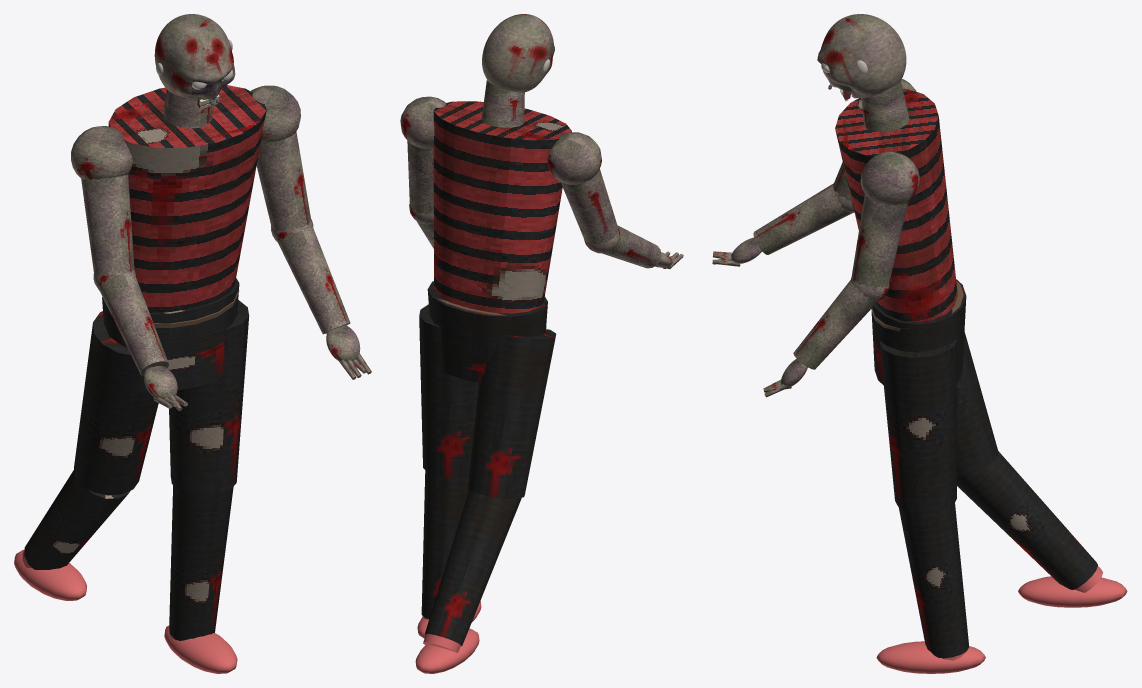
Rendered from Zombie_025.glb.
3 views of the same model, side by side, from view 1: azimuth 30°, elevation 25°; view 2: azimuth 150°, elevation 25°; view 3: azimuth 270°, elevation 25° (orthographic). The views are drawn at different scales.
Parts seen in each view (by area): view 1: Zombie_025, object 16, object 10, object 3, object 11, object 4; view 2: Zombie_025, object 16, object 3; view 3: Zombie_025, object 16, object 3, object 10.
Boxes of the visible parts, left/top/right/bottom form: Zombie_025: left=14, top=85, right=311, bottom=673; object 16: left=154, top=14, right=235, bottom=101; object 10: left=277, top=226, right=350, bottom=334; object 3: left=99, top=273, right=168, bottom=376; object 11: left=326, top=325, right=360, bottom=361; object 4: left=144, top=366, right=177, bottom=399; Zombie_025: left=400, top=80, right=618, bottom=673; object 16: left=482, top=14, right=554, bottom=92; object 3: left=602, top=225, right=661, bottom=268; Zombie_025: left=833, top=79, right=1127, bottom=673; object 16: left=817, top=14, right=906, bottom=98; object 3: left=753, top=183, right=852, bottom=254; object 10: left=793, top=280, right=878, bottom=369.
Bounding box in the file's own units: 0.7051 × 1.94 × 1.15.
Materials: 15 (5 with a texture image).
